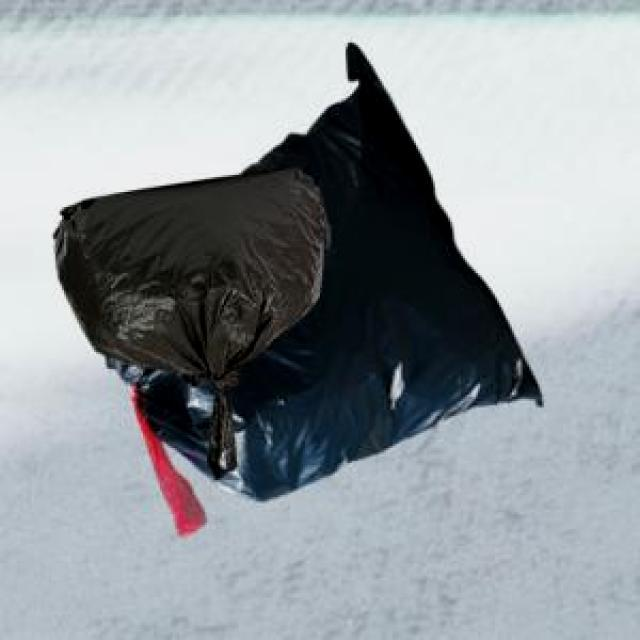Trashbag: (46, 167, 329, 378)
